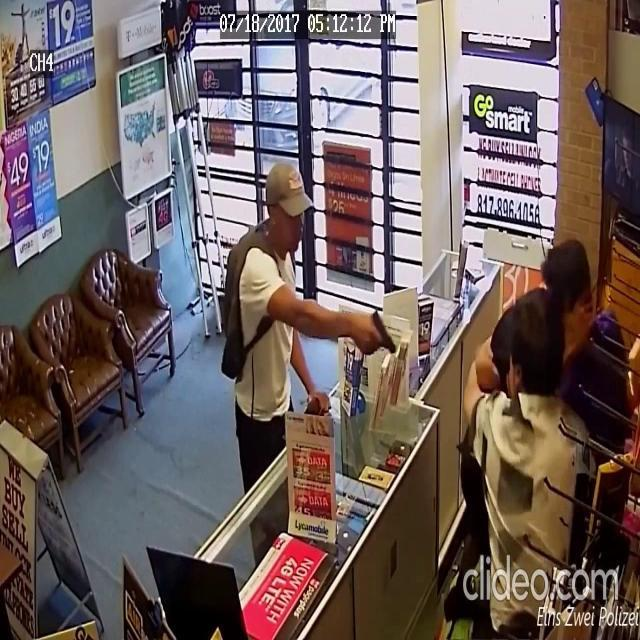pistol: (370, 306, 398, 358)
